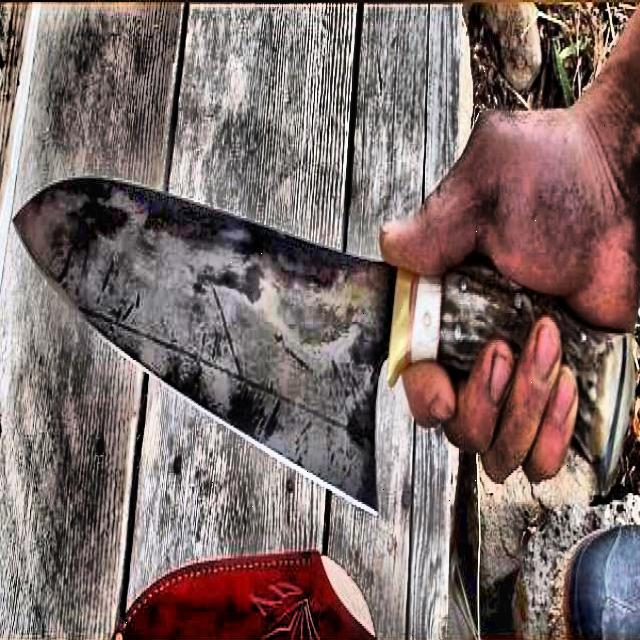knife: (12, 178, 635, 515)
